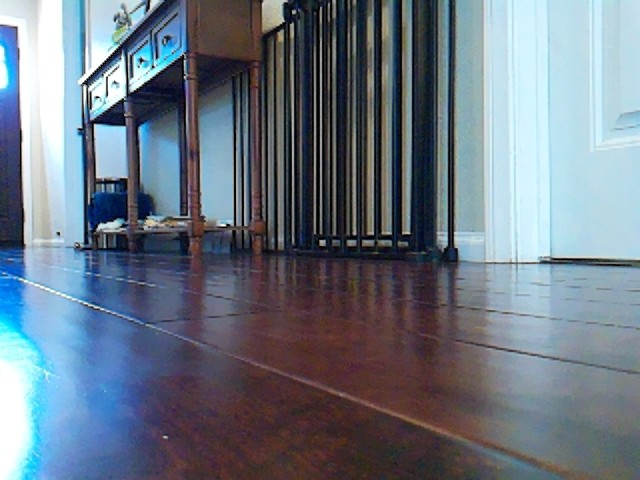Drivable Area: (185, 270, 640, 480), (61, 260, 191, 480), (0, 251, 68, 480)
Obstacle: (84, 2, 493, 258)
